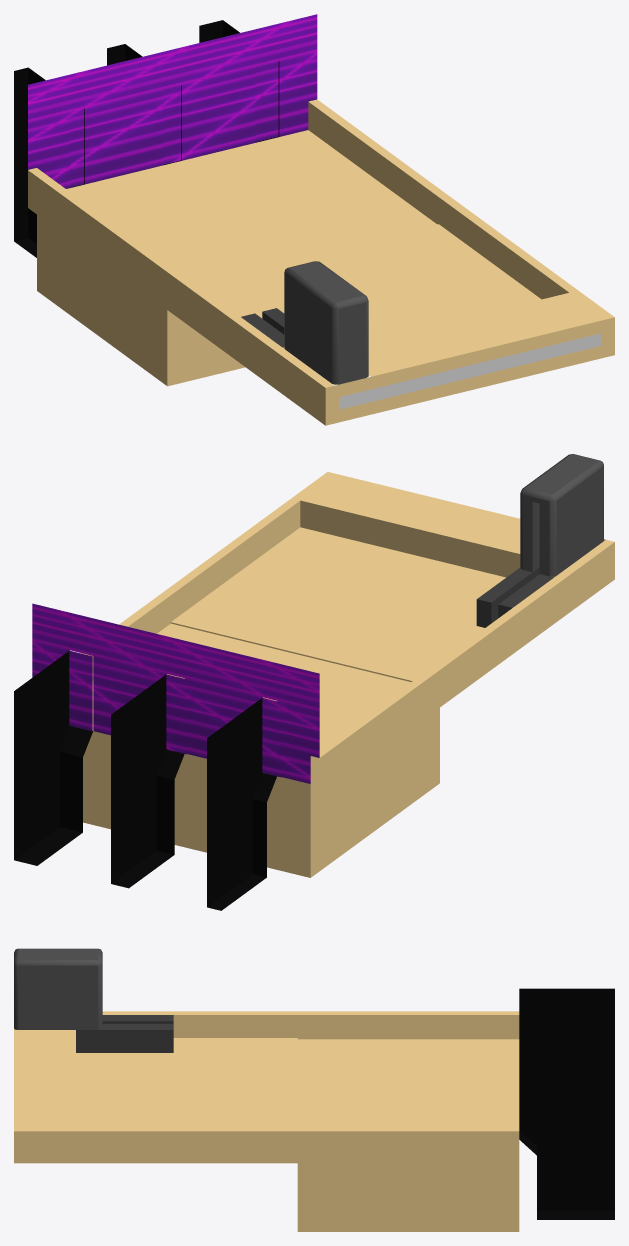
Rendered from coin-roller.glb.
The picture shows the model from 3 angles, top to bottom: view 1: azimuth 30°, elevation 25°; view 2: azimuth 150°, elevation 25°; view 3: azimuth 270°, elevation 25°; orthographic projection. The views are drawn at different scales.
Parts seen in each view (by area): view 1: base, trap-door, slot-1, slot-2, base-top, slot-3, doors, launcher; view 2: base, slot-3, slot-2, slot-1, base-top, trap-door, doors, launcher; view 3: base, trap-door, slot-3, base-top, slot-1, slot-2, launcher.
Part boxes in pixels (left/top/right/bottom): base: left=28, top=14, right=614, bottom=425; trap-door: left=66, top=130, right=436, bottom=283; slot-1: left=14, top=63, right=118, bottom=257; slot-2: left=107, top=39, right=213, bottom=172; base-top: left=284, top=261, right=368, bottom=384; slot-3: left=199, top=16, right=308, bottom=149; doors: left=70, top=61, right=278, bottom=187; launcher: left=241, top=308, right=284, bottom=347; base: left=32, top=472, right=614, bottom=877; slot-3: left=14, top=605, right=121, bottom=865; slot-2: left=111, top=629, right=216, bottom=888; slot-1: left=207, top=652, right=310, bottom=910; base-top: left=520, top=454, right=603, bottom=576; trap-door: left=92, top=623, right=410, bottom=792; doors: left=69, top=650, right=281, bottom=777; launcher: left=476, top=567, right=555, bottom=627; base: left=14, top=1011, right=519, bottom=1231; trap-door: left=297, top=1039, right=519, bottom=1127; slot-3: left=519, top=1065, right=614, bottom=1219; base-top: left=14, top=948, right=102, bottom=1029; slot-1: left=519, top=988, right=614, bottom=1027; slot-2: left=519, top=1027, right=614, bottom=1065; launcher: left=76, top=1015, right=173, bottom=1052.
Bounding box in the file's own units: 0.32 × 0.22 × 0.678.
30 materials, 2 textured.
